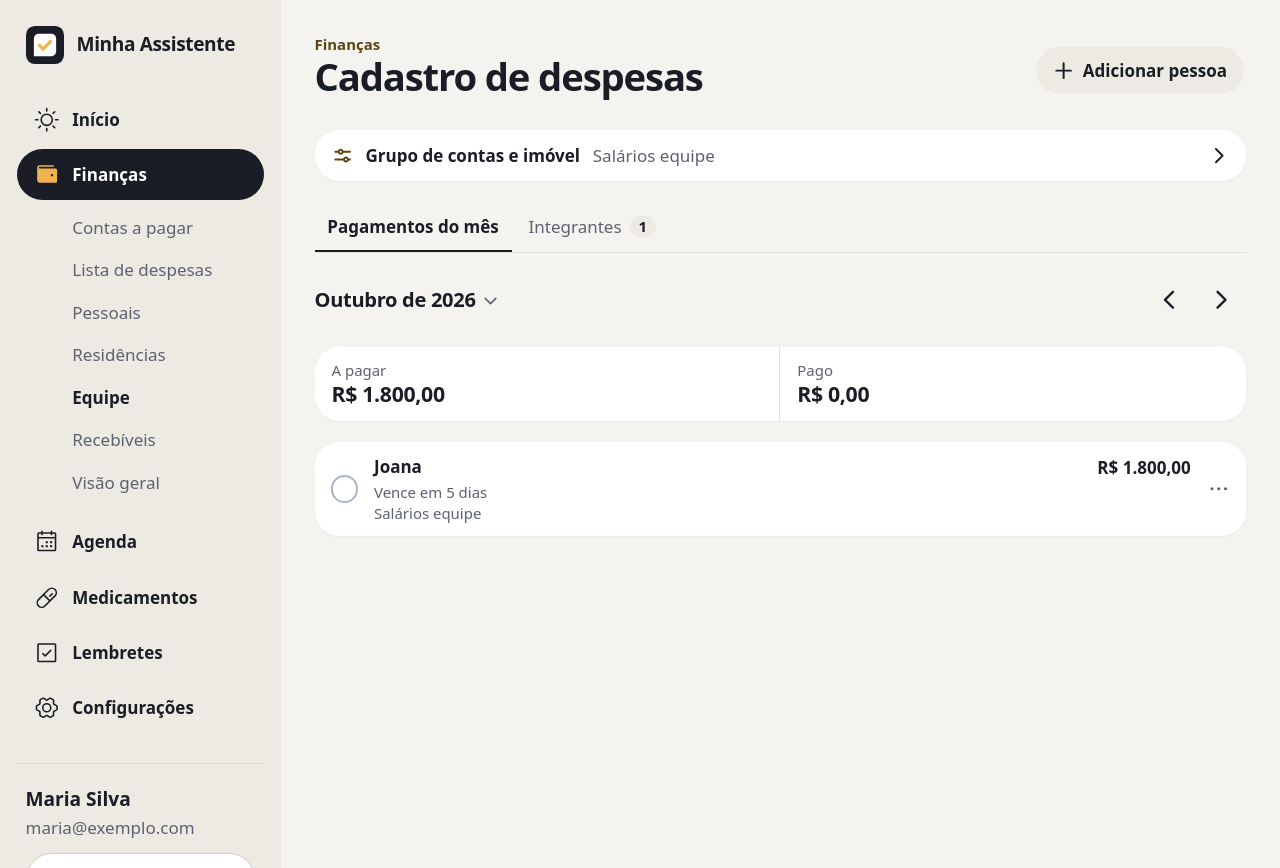
Scenario: aba Salários equipe › desativar a pessoa tira as contas futuras e ela fica marcada como inativa
Click the tab "Integrantes 1": (592, 228) [516,202,668,253]
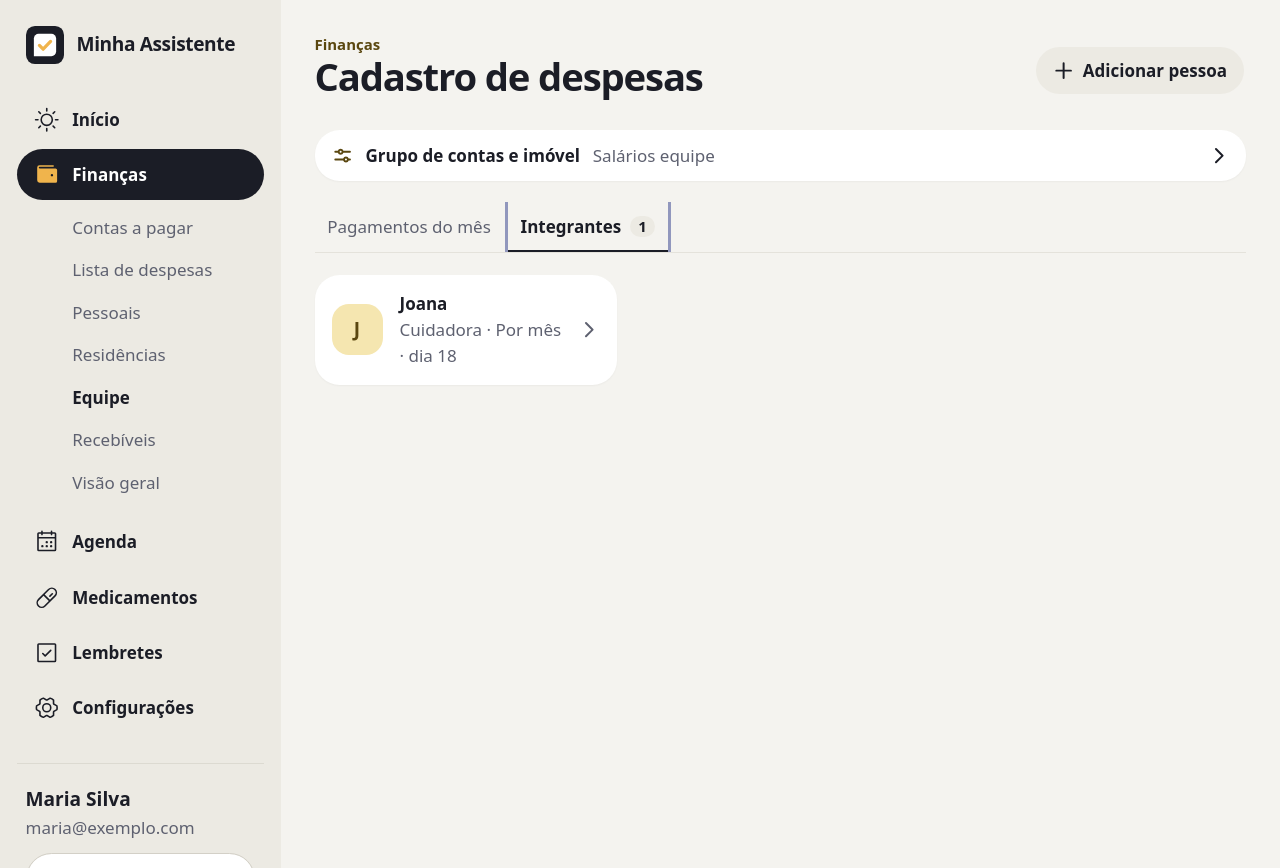
Click the link "J Joana Cuidadora · Por mês · dia 18": (466, 330) [314,275,616,385]
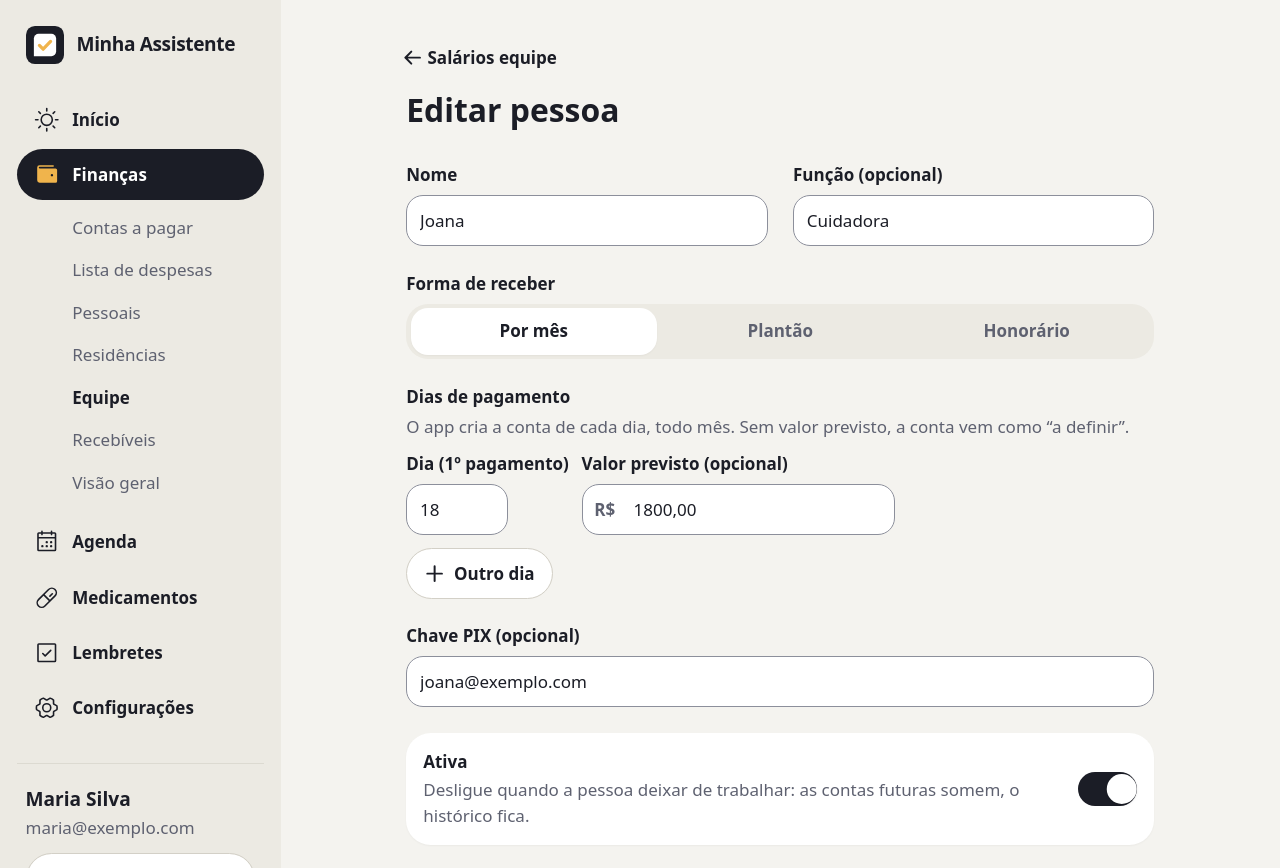
Click the switch named "Ativa": (1108, 789) [1078,772,1137,806]
(page scrolled)
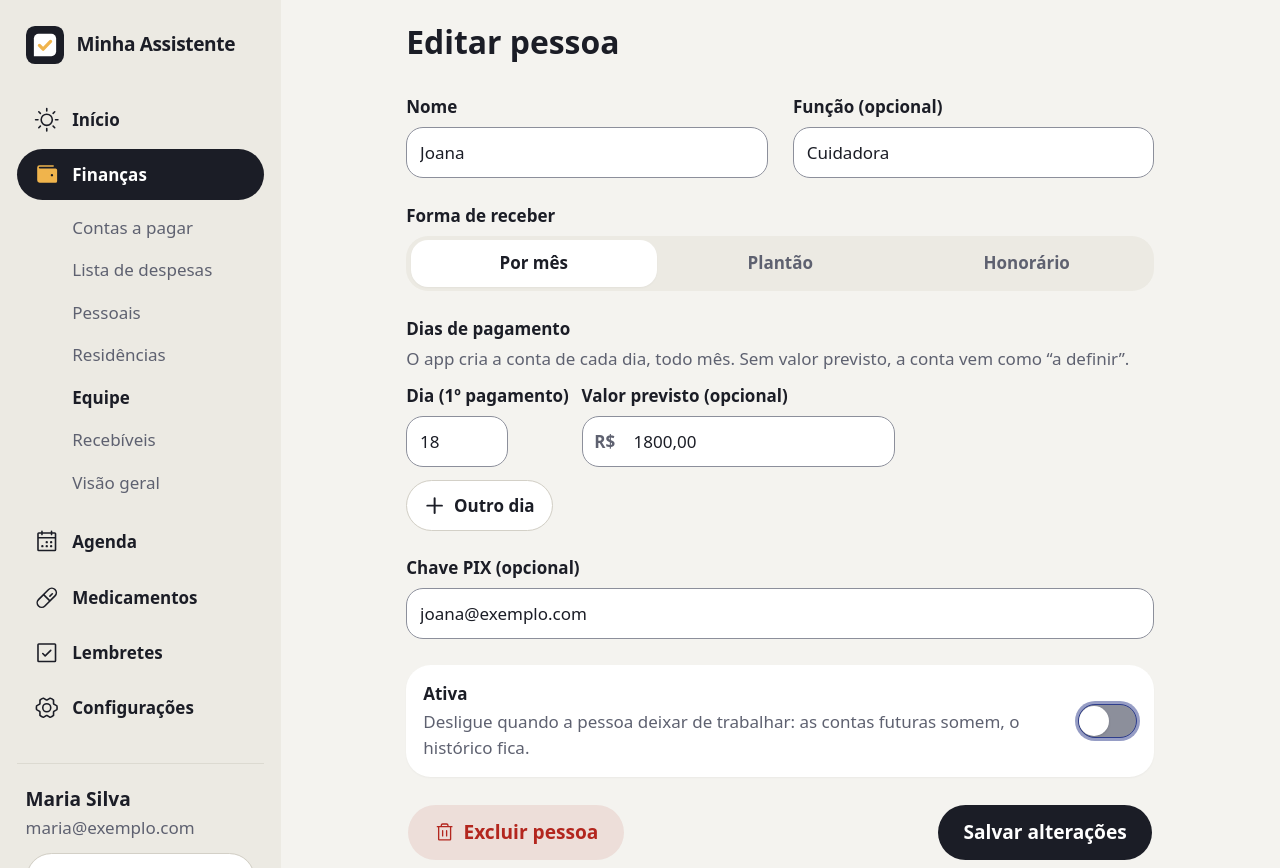
Click the button "Salvar alterações": (1045, 833) [936,803,1154,862]
(page scrolled)
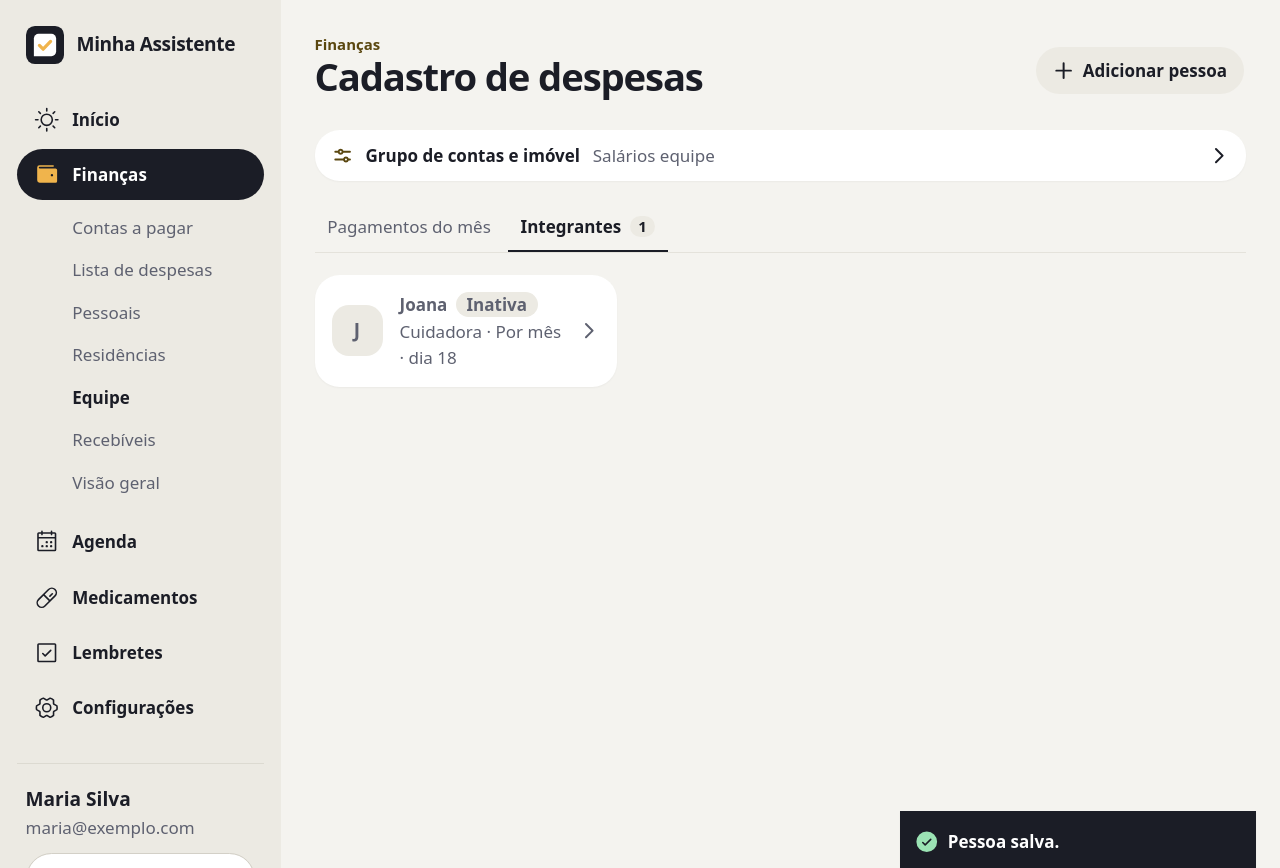
Check: the text "Inativa" is shown, box [456,292,538,317]
Click the tab "Pagamentos do mês": (409, 228) [314,202,504,253]
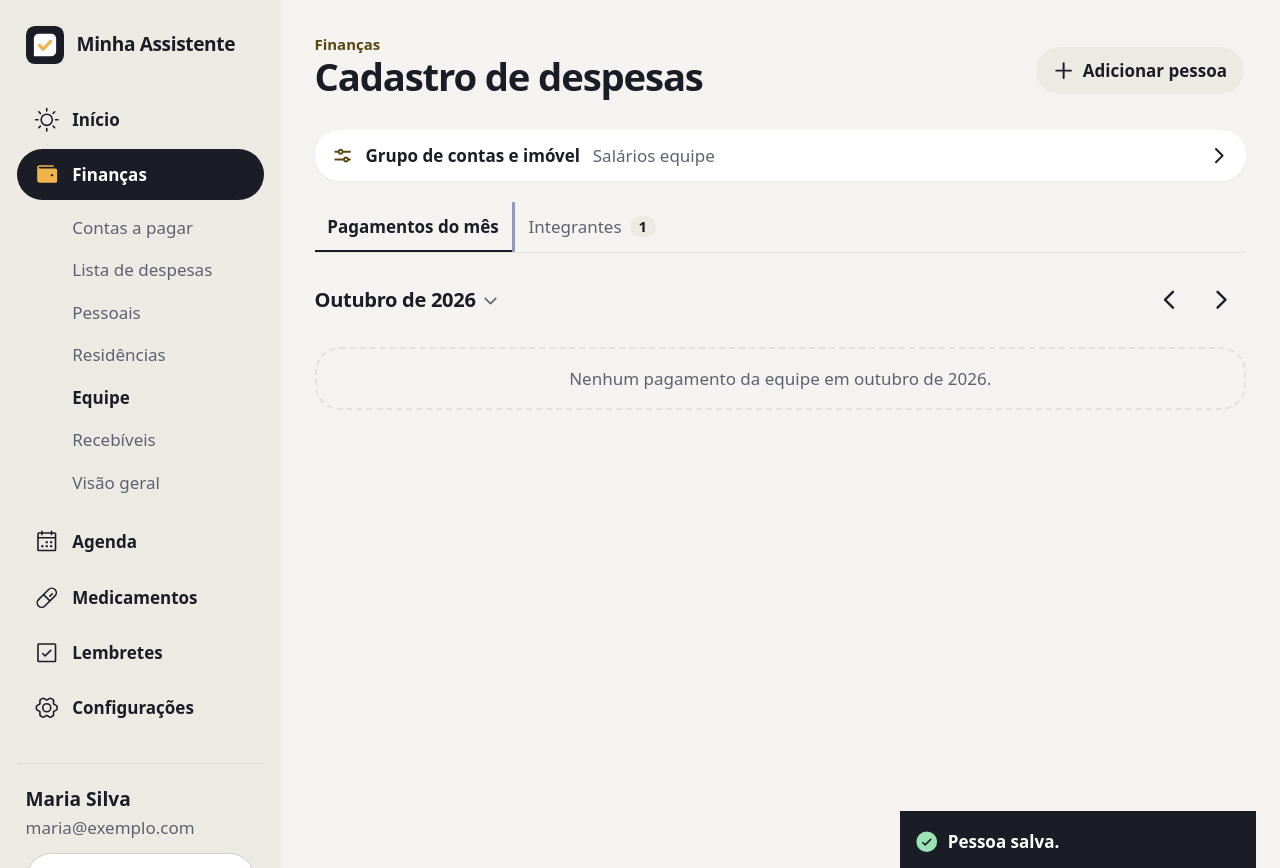
Check: the text "Nenhum pagamento da equipe em outubro de 2026." is shown, box [314,347,1246,410]
